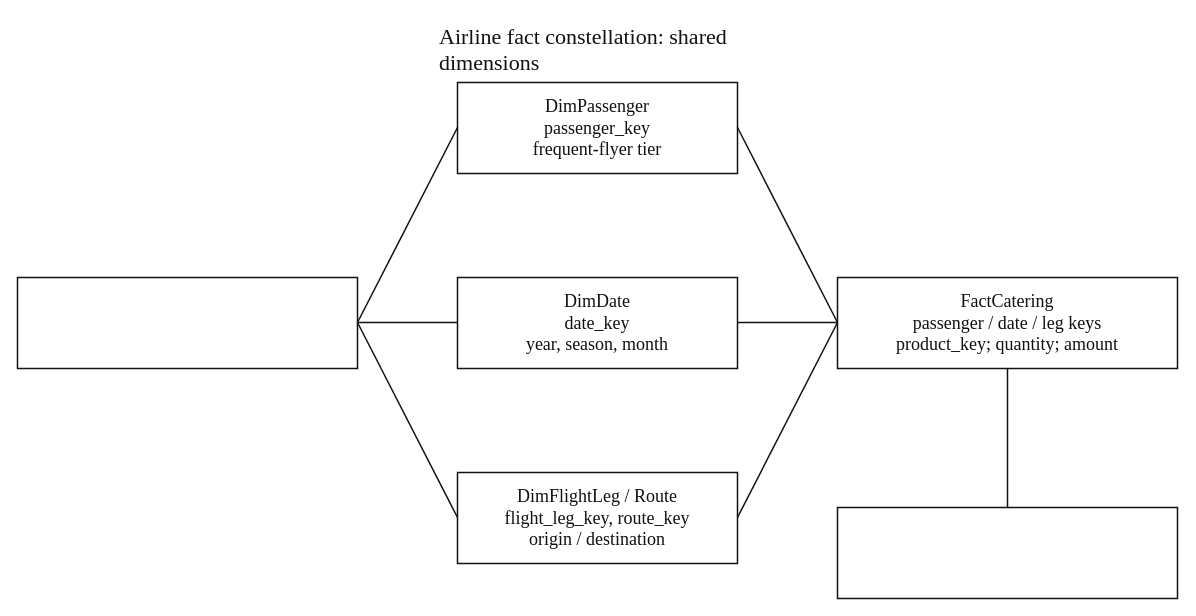
The diagram is 1196 pixels wide and 616 high, and some of its shapes have lost their labels. The centre of each missing label's shape, as x and y in pixels:
"DimProduct product_key food / drink category" belongs at pixel 1007 552.
"FactTravel passenger / date / leg / route keys passenger_count = 1; fare" belongs at pixel 187 322.
